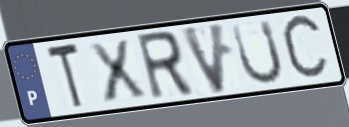C: (279, 10, 332, 86)
R: (133, 28, 197, 104)
T: (44, 40, 85, 113)
U: (229, 17, 286, 88)
V: (177, 20, 229, 98)
X: (85, 37, 150, 106)
